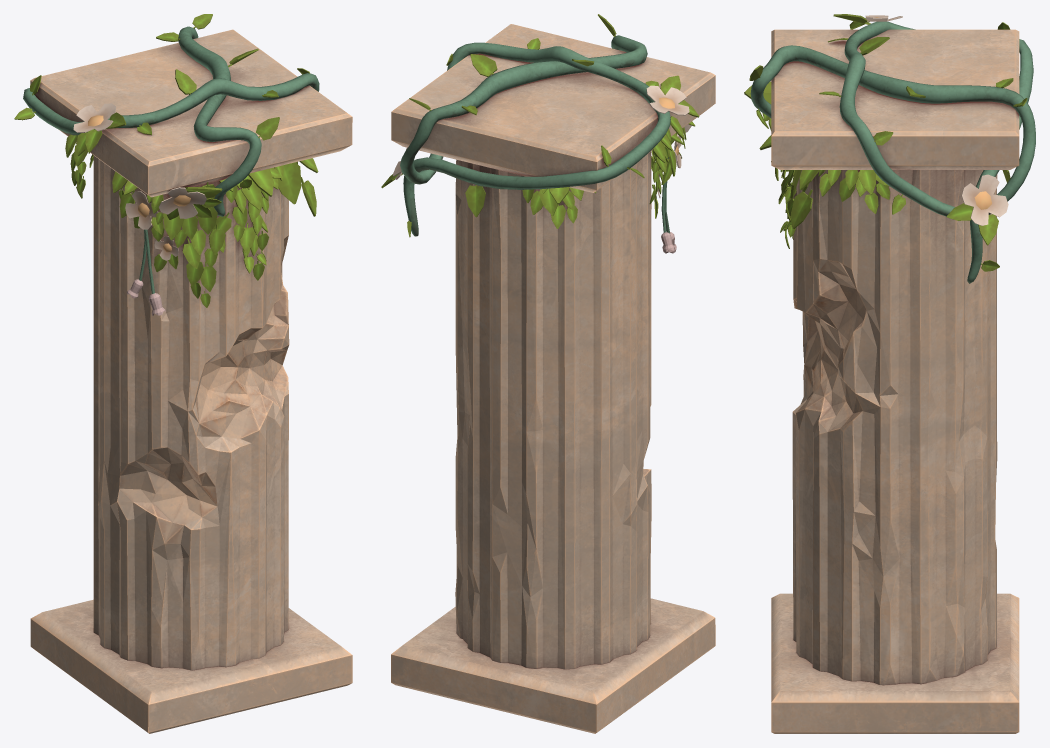
Rendered from stylized_pillar.glb.
The picture shows the model from 3 angles, left to right: view 1: azimuth 30°, elevation 25°; view 2: azimuth 150°, elevation 25°; view 3: azimuth 270°, elevation 25°; orthographic projection. The views are drawn at different scales.
Parts seen in each view (by area): view 1: PillarMain, PillarTop, PillarBottom, Leaves, Vine, Flower; view 2: PillarMain, PillarTop, PillarBottom, Vine, Leaves, Flower; view 3: PillarMain, PillarTop, PillarBottom, Vine, Leaves, Flower.
Part boxes in pixels (x1,y1,x2,y2): PillarMain: [93, 155, 289, 670]; PillarTop: [30, 29, 352, 197]; PillarBottom: [30, 599, 352, 733]; Leaves: [14, 14, 318, 307]; Vine: [23, 26, 319, 216]; Flower: [73, 103, 206, 315]; PillarMain: [455, 151, 651, 669]; PillarTop: [391, 24, 715, 192]; PillarBottom: [391, 598, 715, 733]; Vine: [400, 35, 670, 236]; Leaves: [381, 14, 699, 237]; Flower: [393, 85, 691, 253]; PillarMain: [792, 170, 997, 685]; PillarTop: [771, 29, 1019, 169]; PillarBottom: [771, 593, 1019, 733]; Vine: [750, 21, 1035, 283]; Leaves: [744, 14, 1027, 271]; Flower: [770, 15, 1008, 225].
Bounding box in the file's own units: 0.3327 × 0.7396 × 0.3073.
1 material, 1 textured.
